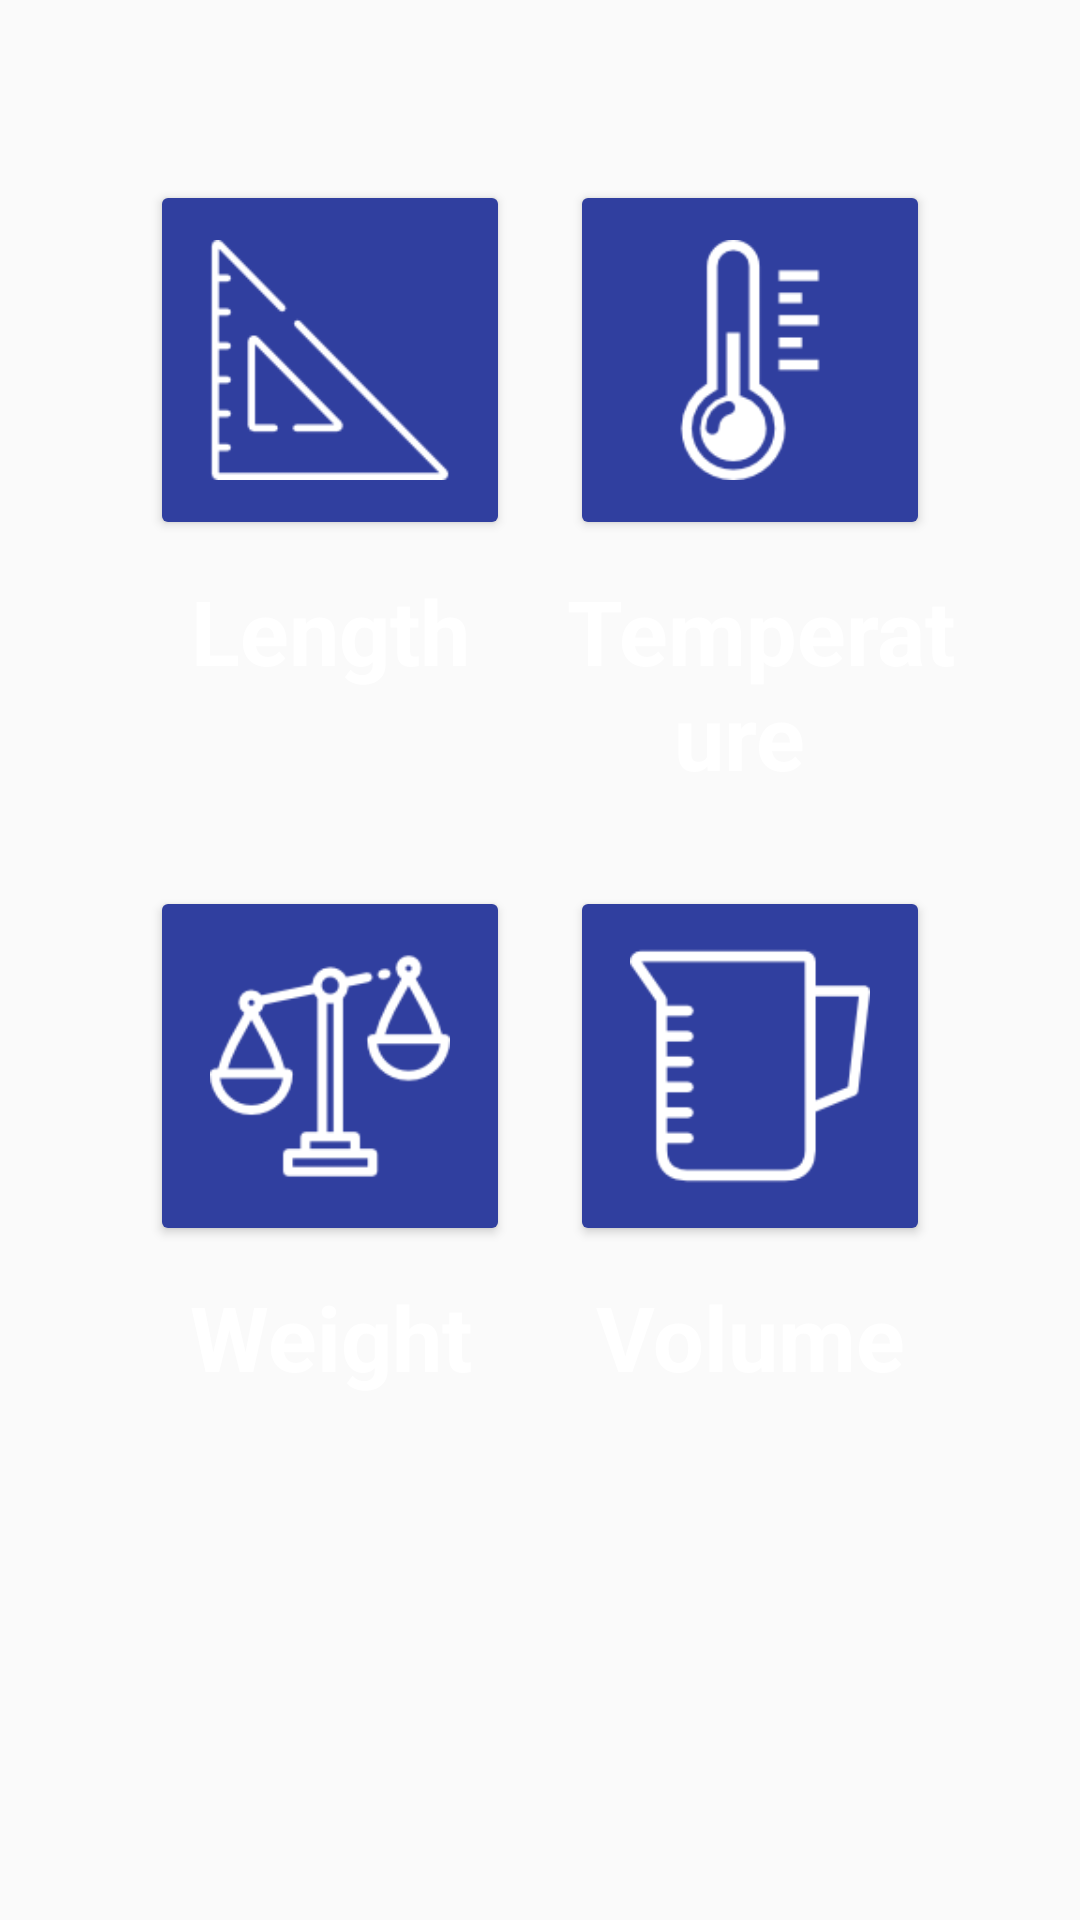

Screen size 1080*1920. Icon name, then its center in pixels as point (x, y):
balance: point (329, 1067)
ruler: point (329, 360)
thermometer: point (750, 360)
